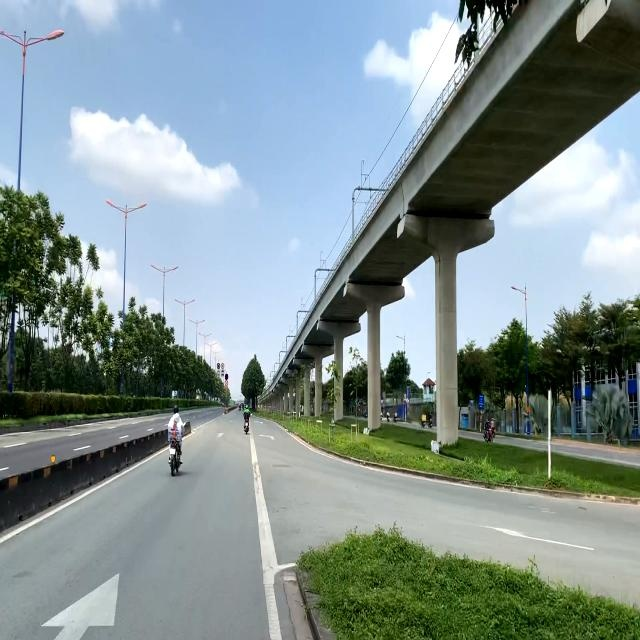bien_cam: (221, 362, 225, 369), (217, 363, 220, 369), (225, 374, 228, 380)
